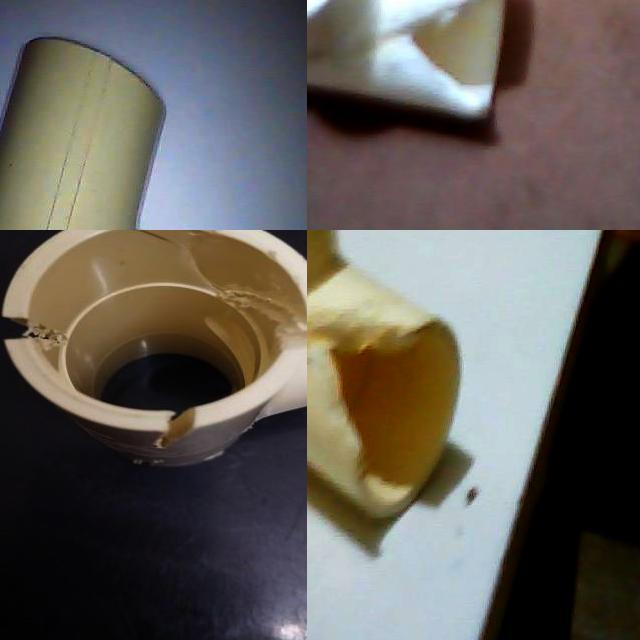Defective: (307, 296, 418, 497), (342, 0, 507, 130), (211, 286, 305, 374), (0, 293, 74, 390), (327, 402, 401, 492), (307, 328, 411, 376), (152, 401, 216, 459), (295, 291, 307, 357)
T Joint: (307, 230, 462, 558), (0, 37, 166, 230), (307, 0, 508, 141)
